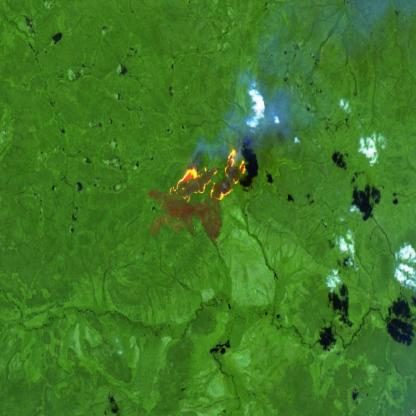fire: (167, 147, 250, 209)
